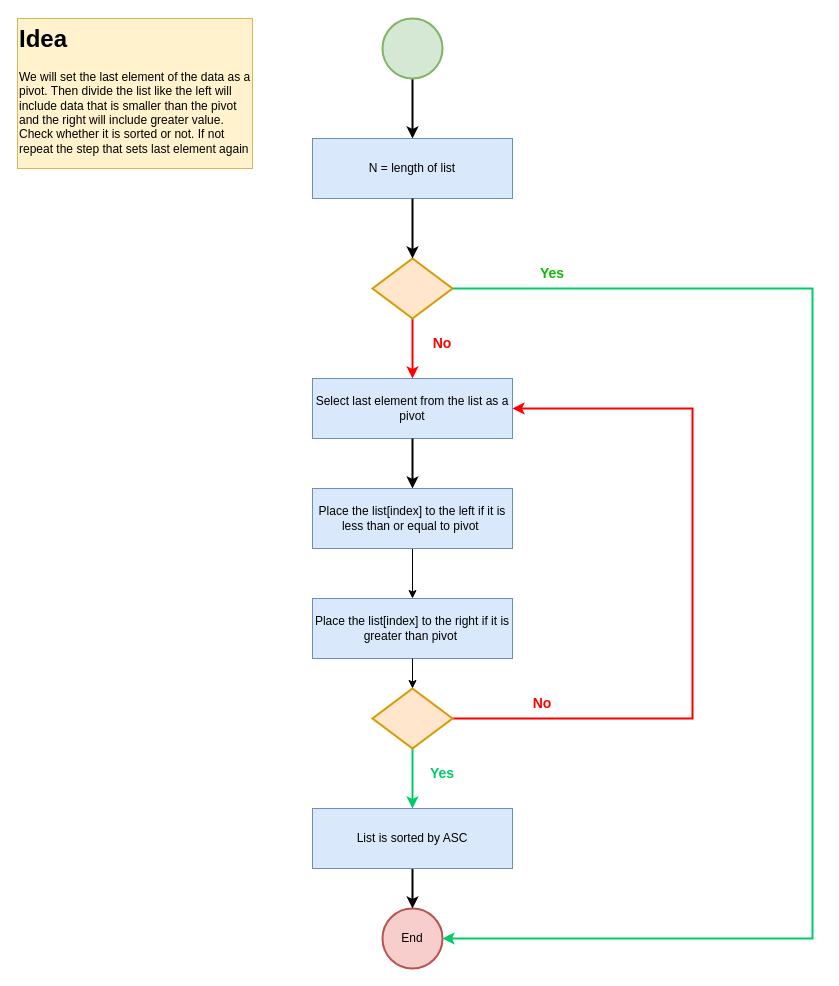
This 839x986 diagram has some shape labels left out. Here are the shapes that lost their labels. From the top down, the centre of each, then its label:
At (412,48): "Start".
At (412,288): "N < 2".
At (412,718): "Is Sorted?".
